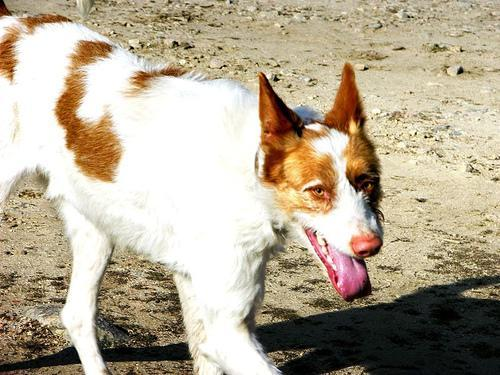Ibizan_hound: (0, 5, 382, 373)
